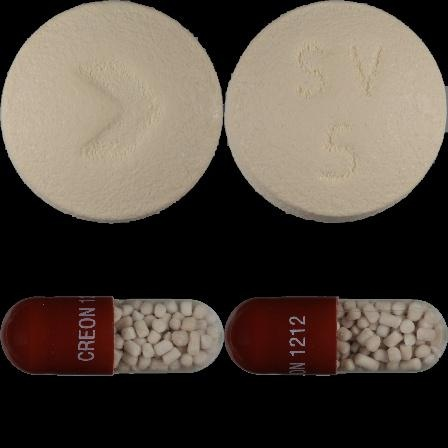54868-6066: (0, 0, 224, 224)
